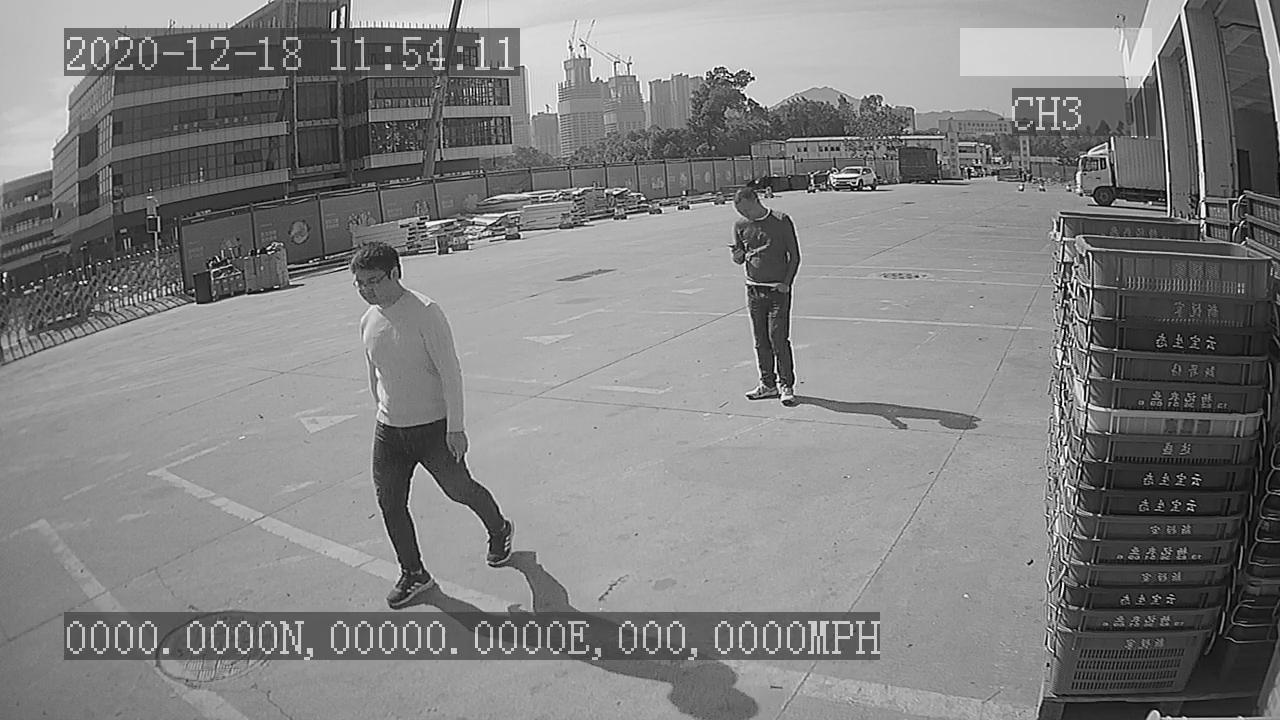person: (342, 235, 522, 610), (718, 185, 802, 415)
